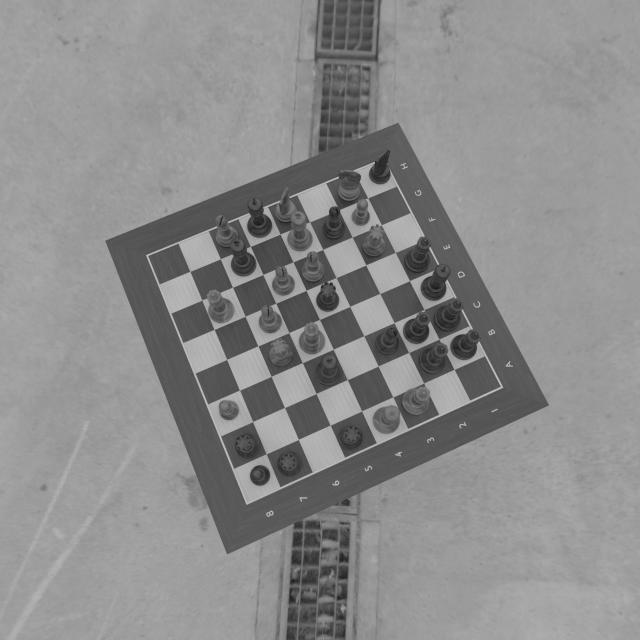chessboard: (148, 159, 502, 506)
